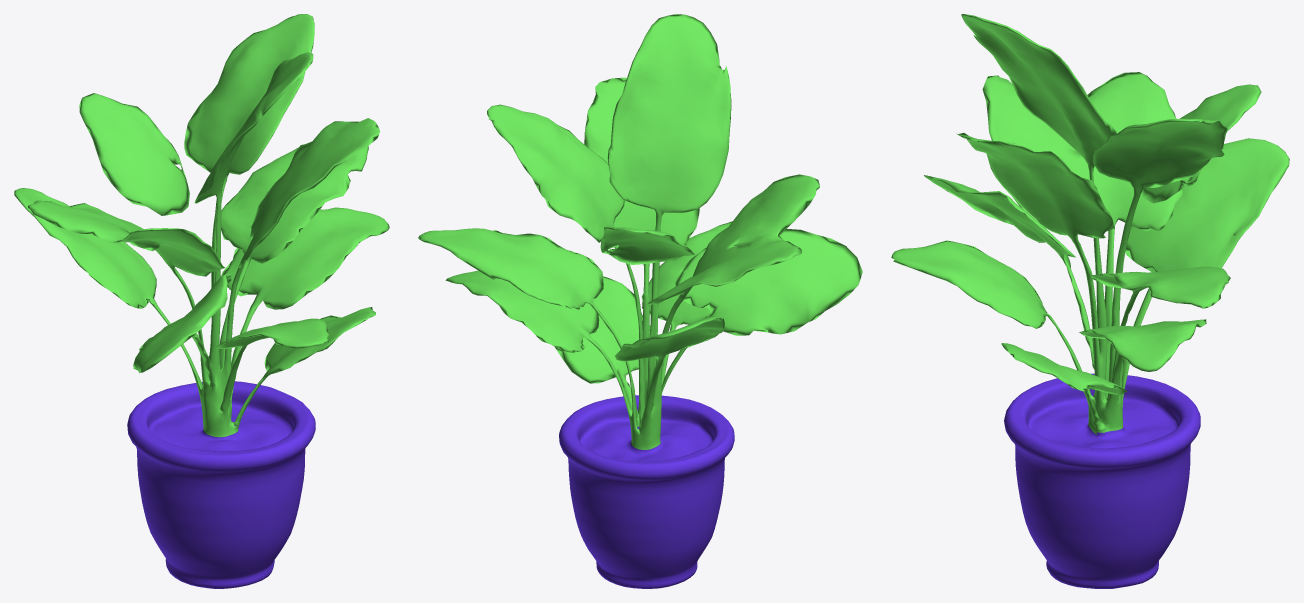
Rendered from plante_5.glb.
3 renders of one model, left to right at view 1: azimuth 30°, elevation 25°; view 2: azimuth 150°, elevation 25°; view 3: azimuth 270°, elevation 25°, orthographic. The views are drawn at different scales.
Parts seen in each view (by area): view 1: Mesh1; view 2: Mesh1; view 3: Mesh1.
Part boxes in pixels (x1,y1,x2,y2): Mesh1: (14,14,389,588); Mesh1: (418,14,862,588); Mesh1: (891,14,1289,588).
Bounding box in the file's own units: 1.44 × 2 × 1.27.
